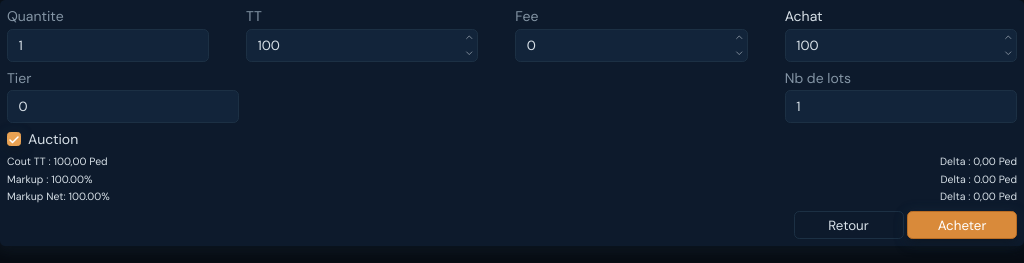
Test: TransactionPanelContent free mode › nudges the TTC with the stepper buttons
Click the checkbox named "Auction": (14, 139) [7,132,21,146]
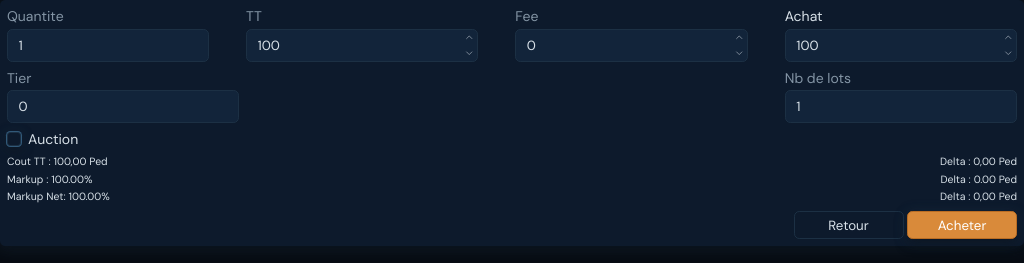
Click the button named "Augmenter" below "Achat": (1008, 37) [1003,28,1014,45]
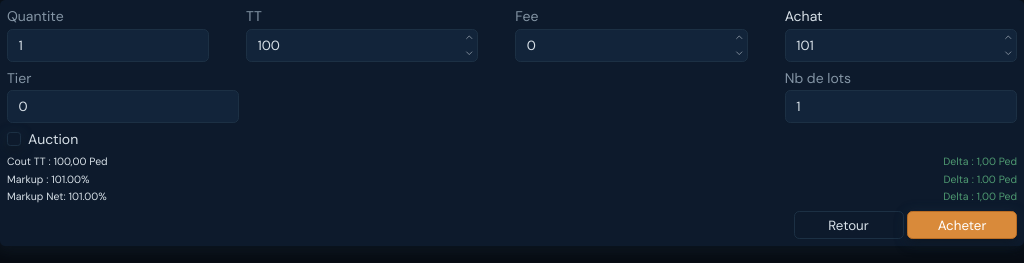
Check: the field labelled "Achat" holds "101", box [785,28,1017,62]
